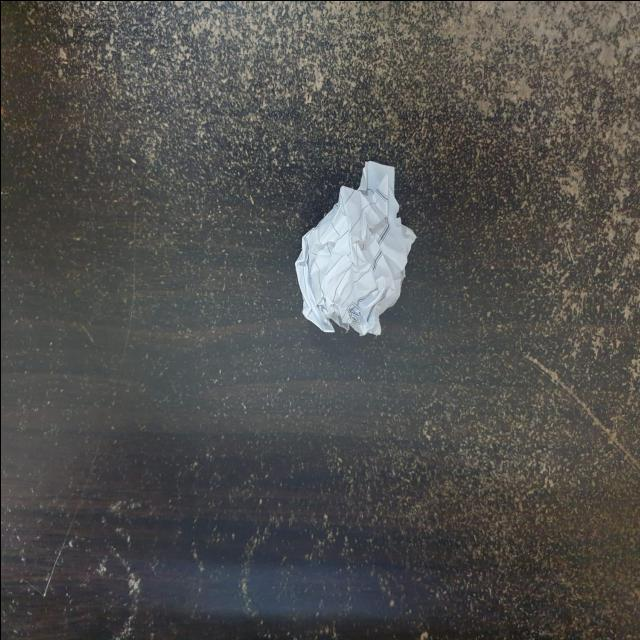kertas: (296, 160, 415, 332)
